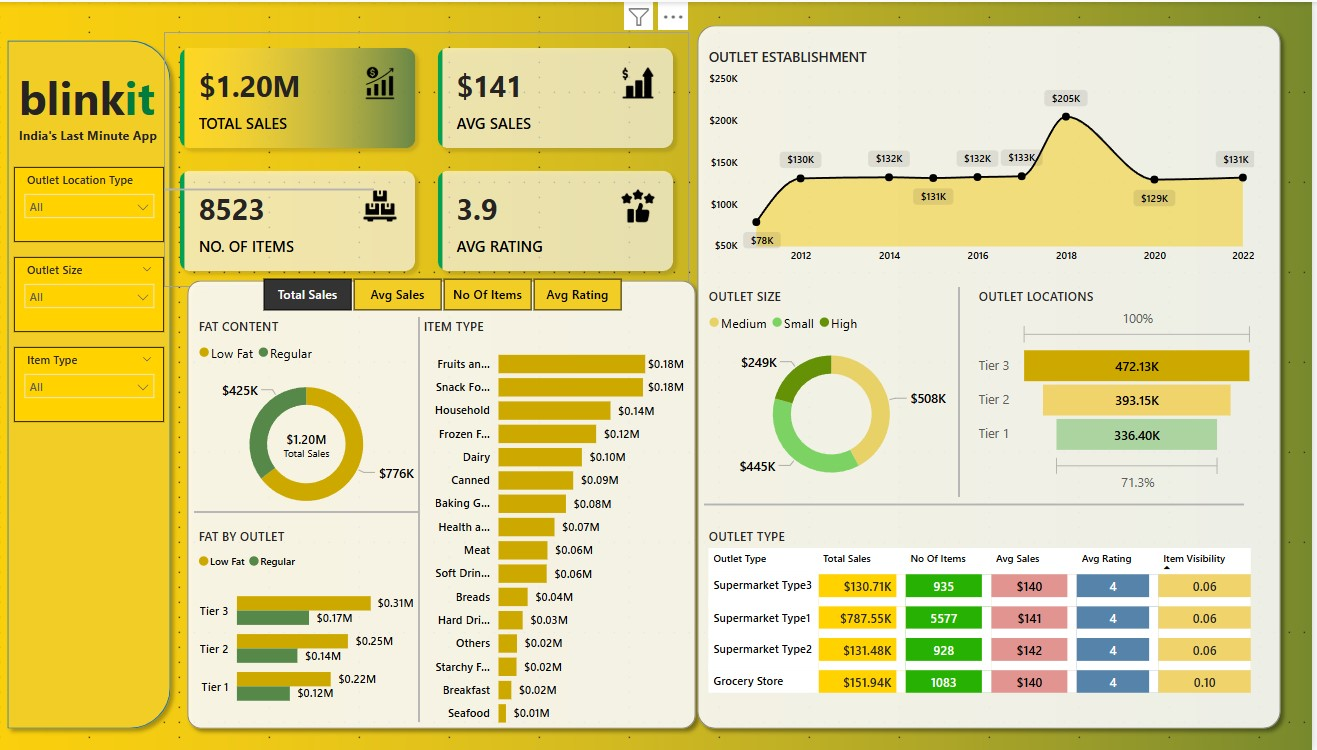

This screenshot's page, from the dashboard's own definition file:
{"tool":"powerbi","page":{"name":"Page 1","canvas":[1400,800],"ordinal":0},"visuals":[{"type":"shape","box":[0,32,192,752],"z":0},{"type":"textbox","box":[16,64,176,80],"z":1000},{"type":"textbox","box":[16,128,176,32],"z":2000},{"type":"cardVisual","fields":{"Data":["BlinkIT Grocery Data.Total Sales","BlinkIT Grocery Data.Avg Sales","BlinkIT Grocery Data.No Of Items","BlinkIT Grocery Data.Avg Rating"]},"box":[176,32,560,272],"z":3000},{"type":"shape","box":[192,288,560,496],"z":4000},{"type":"donutChart","title":"FAT CONTENT","fields":{"Y":["BlinkIT Grocery Data.Total Sales"],"Category":["BlinkIT Grocery Data.Item Fat Content"]},"box":[208,336,240,224],"z":5000},{"type":"slicer","fields":{"Values":["Parameter.Parameter"]},"box":[256,288,432,48],"z":6000},{"type":"cardVisual","fields":{"Data":["BlinkIT Grocery Data.Total Sales"]},"box":[272,432,112,80],"z":7000},{"type":"clusteredBarChart","title":"FAT BY OUTLET","fields":{"Y":["BlinkIT Grocery Data.Total Sales"],"Category":["BlinkIT Grocery Data.Outlet Location Type"],"Series":["BlinkIT Grocery Data.Item Fat Content"]},"box":[208,560,240,208],"z":8000},{"type":"shape","box":[208,528,240,32],"z":9000},{"type":"shape","box":[432,336,32,432],"z":10000},{"type":"barChart","title":"ITEM TYPE","fields":{"Y":["BlinkIT Grocery Data.Total Sales"],"Category":["BlinkIT Grocery Data.Item Type","BlinkIT Grocery Data.Outlet Establishment Year"]},"box":[448,336,288,448],"z":11000},{"type":"shape","box":[736,16,640,768],"z":12000},{"type":"lineChart","title":"OUTLET ESTABLISHMENT","fields":{"Category":["BlinkIT Grocery Data.Outlet Establishment Year"],"Y":["BlinkIT Grocery Data.Total Sales"]},"box":[752,48,592,240],"z":13000},{"type":"shape","box":[752,528,576,16],"z":14000},{"type":"pieChart","title":"OUTLET SIZE","fields":{"Y":["BlinkIT Grocery Data.Total Sales"],"Category":["BlinkIT Grocery Data.Outlet Size"]},"box":[752,304,272,224],"z":15000},{"type":"shape","box":[1008,304,32,224],"z":16000},{"type":"funnel","title":"OUTLET LOCATIONS","fields":{"Y":["Sum(BlinkIT Grocery Data.Sales)"],"Category":["BlinkIT Grocery Data.Outlet Location Type"]},"box":[1040,304,304,224],"z":17000},{"type":"shape","box":[96,48,304,304],"z":18000},{"type":"pivotTable","title":"OUTLET TYPE","fields":{"Rows":["BlinkIT Grocery Data.Outlet Type"],"Values":["BlinkIT Grocery Data.Total Sales","BlinkIT Grocery Data.No Of Items","BlinkIT Grocery Data.Avg Sales","BlinkIT Grocery Data.Avg Rating","Avg(BlinkIT Grocery Data.Item Visibility)"]},"box":[752,560,592,208],"z":19000},{"type":"slicer","fields":{"Values":["BlinkIT Grocery Data.Outlet Location Type"]},"box":[16,176,160,80],"z":20000},{"type":"slicer","fields":{"Values":["BlinkIT Grocery Data.Outlet Size"]},"box":[16,272,160,80],"z":21000},{"type":"slicer","fields":{"Values":["BlinkIT Grocery Data.Item Type"]},"box":[16,368,160,80],"z":22000}]}

Visuals, with their boxes in screenshot pixels (x1, y1, x2, y2), scaled from the page's 1400x800 canvas onto the 1317x750 screenshot:
shape: [0, 30, 181, 735]
textbox: [15, 60, 181, 135]
textbox: [15, 120, 181, 150]
cardVisual - BlinkIT Grocery Data.Total Sales x BlinkIT Grocery Data.Avg Sales: [166, 30, 692, 285]
shape: [181, 270, 707, 735]
"FAT CONTENT" donutChart: [196, 315, 421, 525]
slicer - Parameter.Parameter: [241, 270, 647, 315]
cardVisual - BlinkIT Grocery Data.Total Sales: [256, 405, 361, 480]
"FAT BY OUTLET" clusteredBarChart: [196, 525, 421, 720]
shape: [196, 495, 421, 525]
shape: [406, 315, 436, 720]
"ITEM TYPE" barChart: [421, 315, 692, 735]
shape: [692, 15, 1294, 735]
"OUTLET ESTABLISHMENT" lineChart: [707, 45, 1264, 270]
shape: [707, 495, 1249, 510]
"OUTLET SIZE" pieChart: [707, 285, 963, 495]
shape: [948, 285, 978, 495]
"OUTLET LOCATIONS" funnel: [978, 285, 1264, 495]
shape: [90, 45, 376, 330]
"OUTLET TYPE" pivotTable: [707, 525, 1264, 720]
slicer - BlinkIT Grocery Data.Outlet Location Type: [15, 165, 166, 240]
slicer - BlinkIT Grocery Data.Outlet Size: [15, 255, 166, 330]
slicer - BlinkIT Grocery Data.Item Type: [15, 345, 166, 420]
